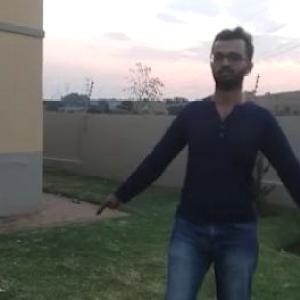land: (108, 43, 299, 299)
